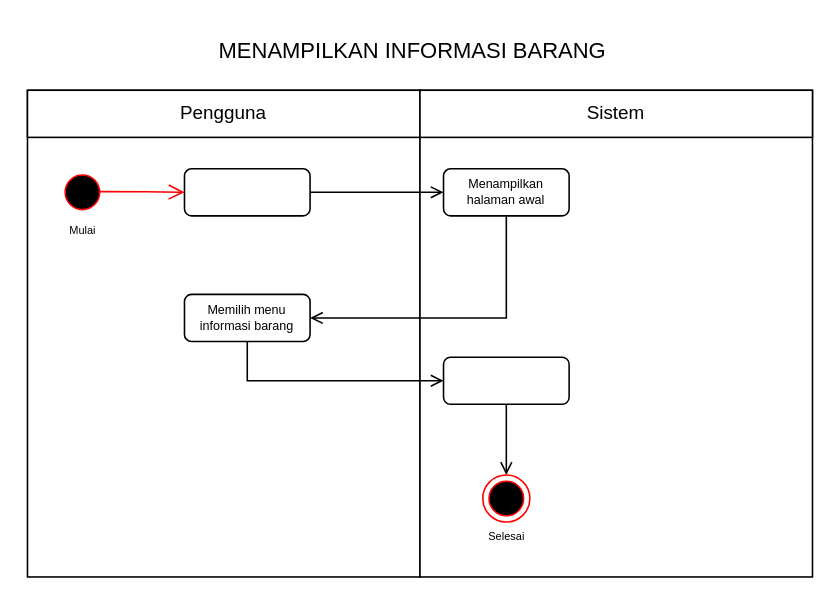
The diagram is 840 pixels wide and 604 high, and some of its shapes have lost their labels. The centre of each missing label's shape, as x and y in pixels:
"Menampilkan informasi barang yang tersedia" belongs at [505,380].
"Mengakses website melalui browser" belongs at [246,191].
